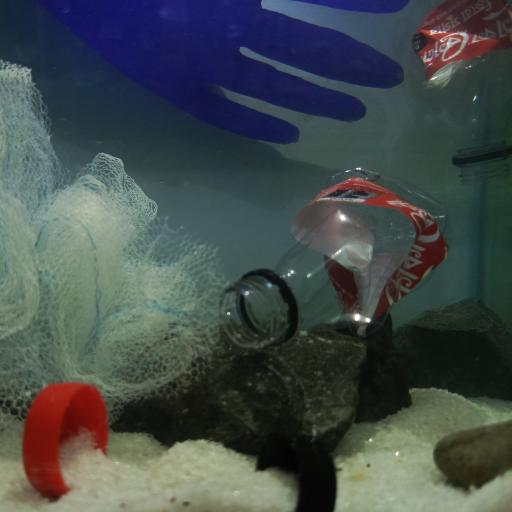bottle_cap: (23, 383, 108, 496), (257, 430, 336, 510)
glove: (41, 0, 411, 147)
net: (0, 62, 235, 415)
plastic_bottle: (218, 166, 452, 350), (410, 0, 512, 184)
